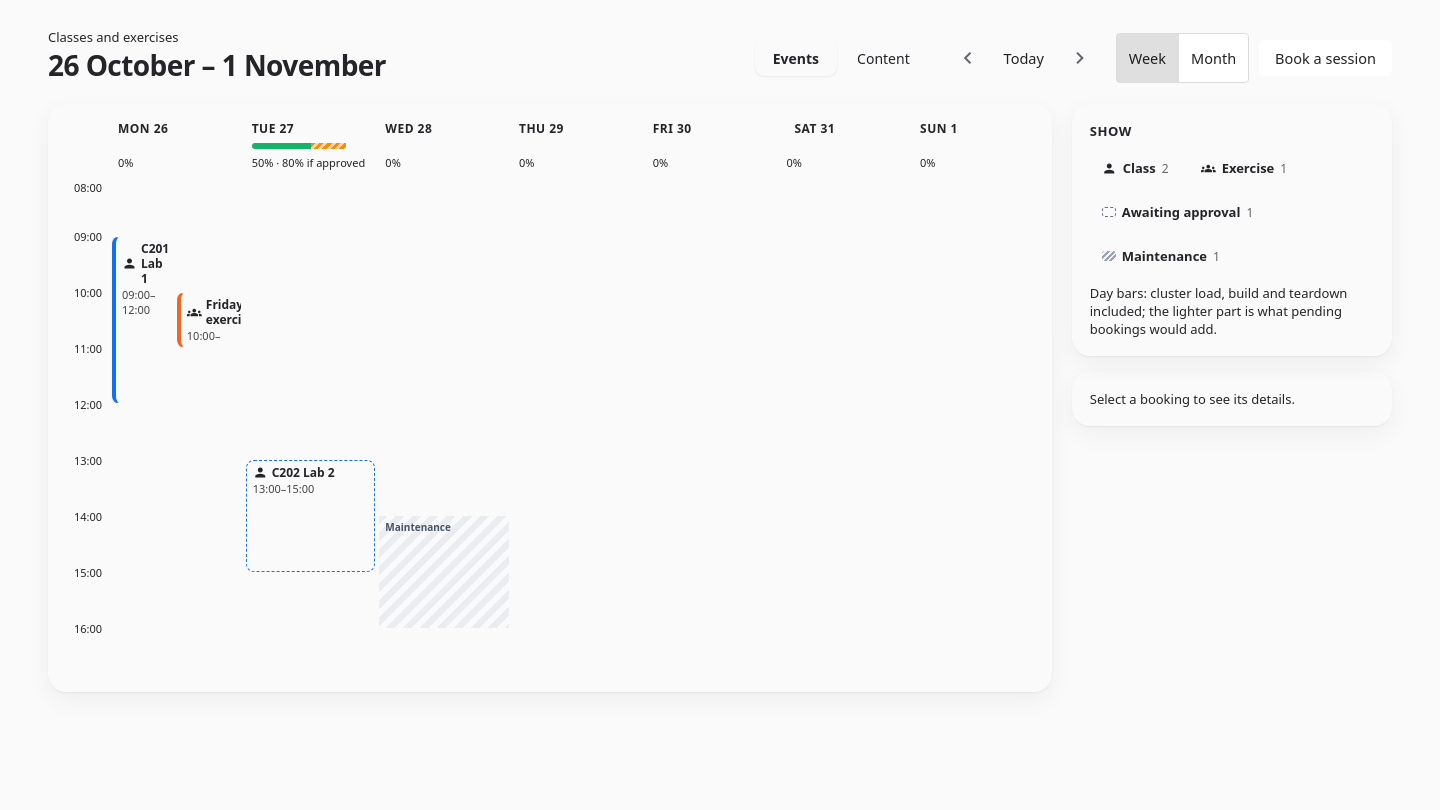
EventsCalendarComponent › filters › hides exercises, pending bookings and maintenance when switched off
Click the button "Exercise 1" at coordinates (1244, 168), box [1189, 150, 1299, 186]
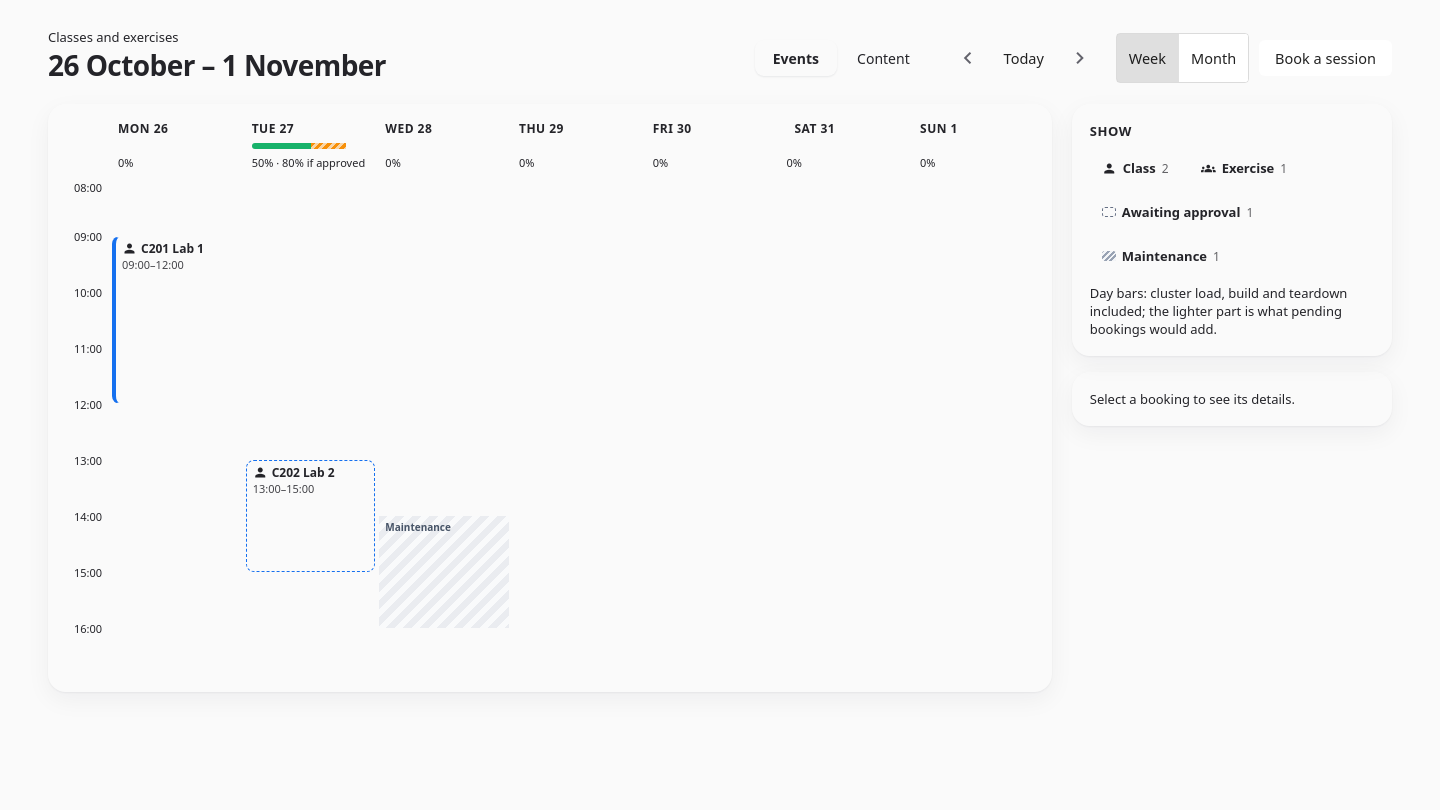
Click the button "Awaiting approval 1" at coordinates (1178, 212), box [1090, 194, 1265, 230]
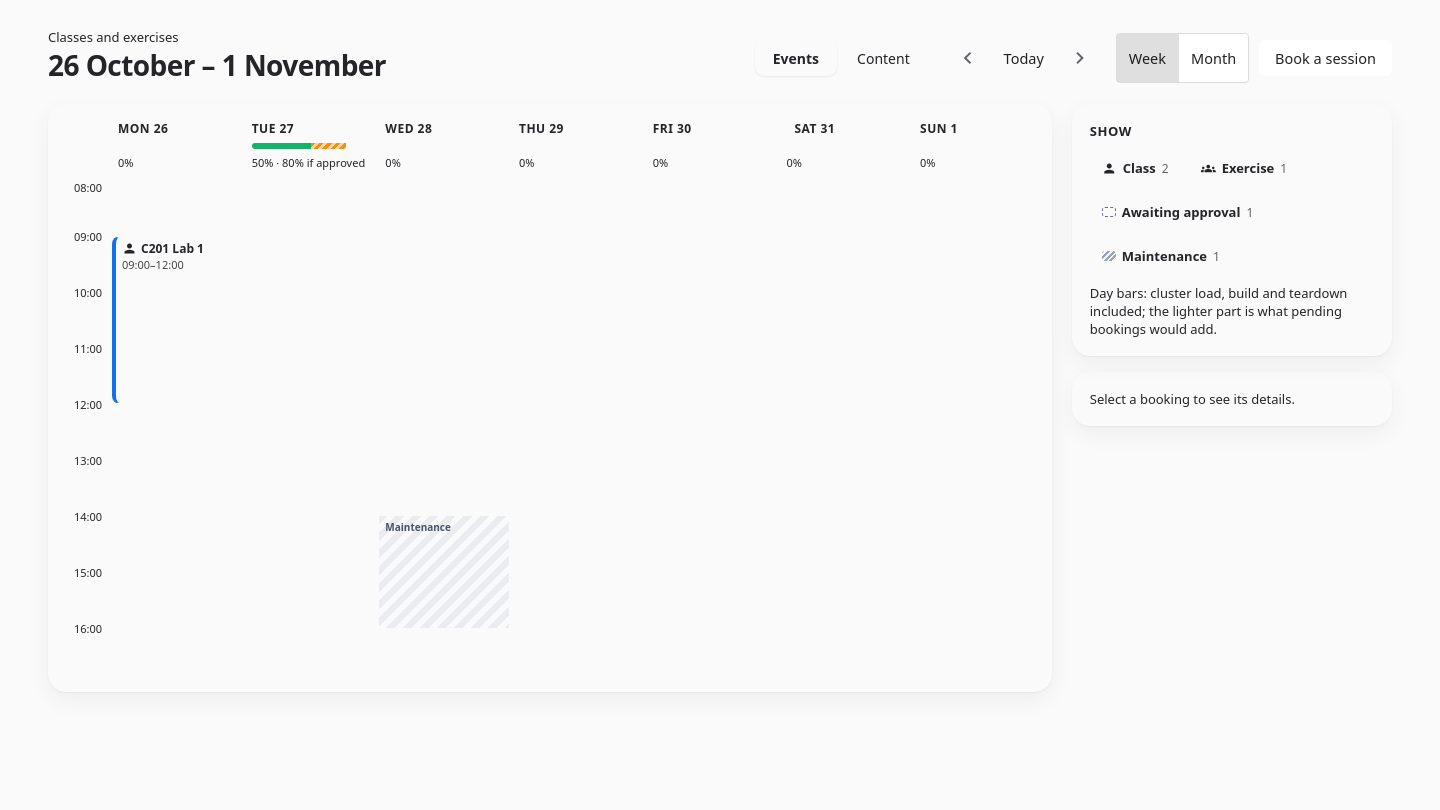
Click the button "Maintenance 1" at coordinates (1161, 256), box [1090, 238, 1232, 274]
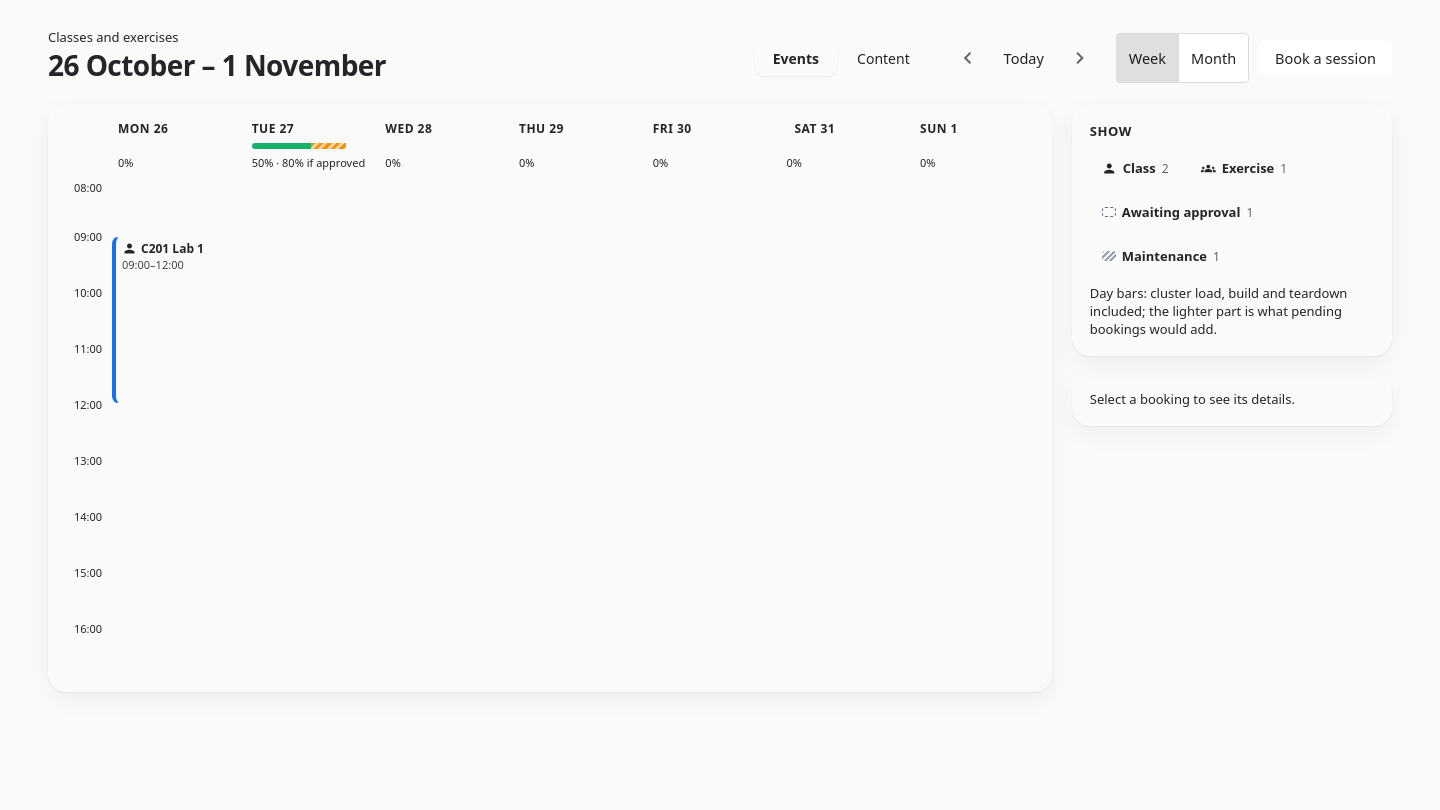
Result: the element with class "maint" is gone
